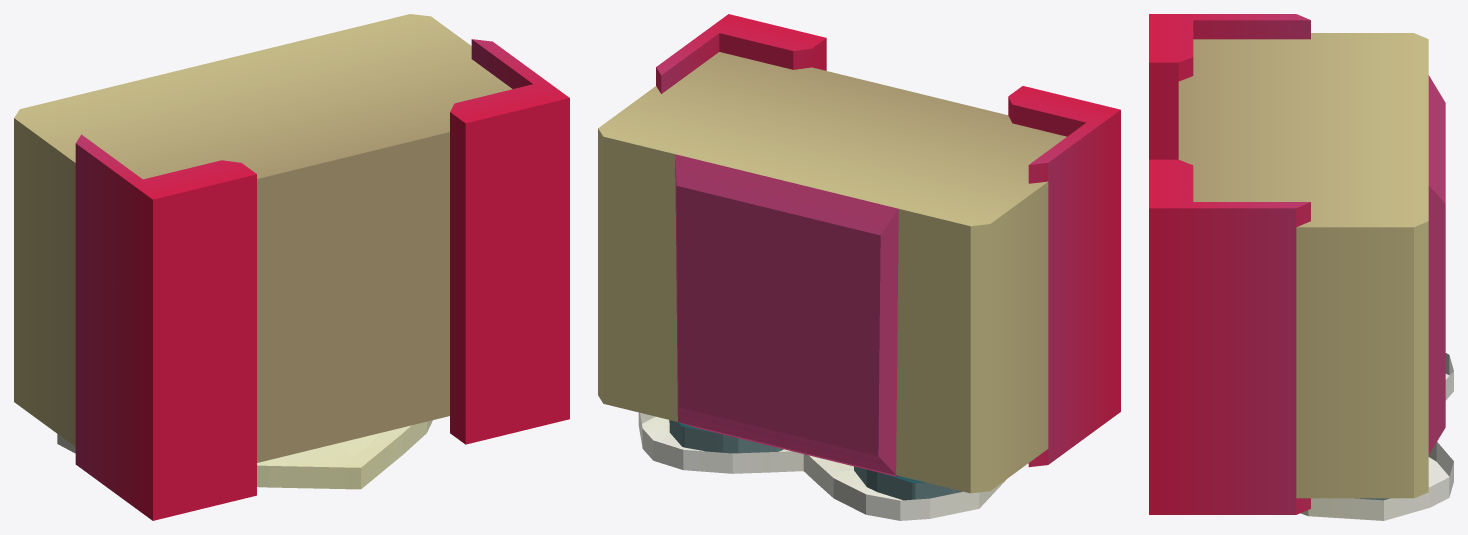
Rendered from i-distance.fbx.
3 views of the same model, side by side, from view 1: azimuth 30°, elevation 25°; view 2: azimuth 150°, elevation 25°; view 3: azimuth 270°, elevation 25° (orthographic). The views are drawn at different scales.
Parts seen in each view (by area): view 1: Cube; view 2: Cube; view 3: Cube.
Boxes of the visible parts, bbox=[...] form: Cube: bbox=[14, 14, 569, 520]; Cube: bbox=[598, 14, 1120, 520]; Cube: bbox=[1149, 14, 1453, 520].
Bounding box in the file's own units: 108 × 84.69 × 71.66.
